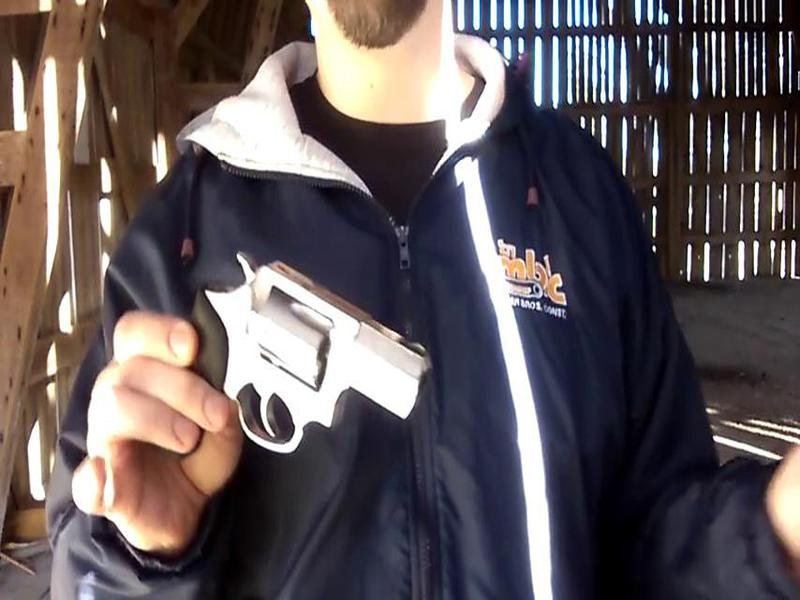Revolver: (127, 252, 432, 477)
